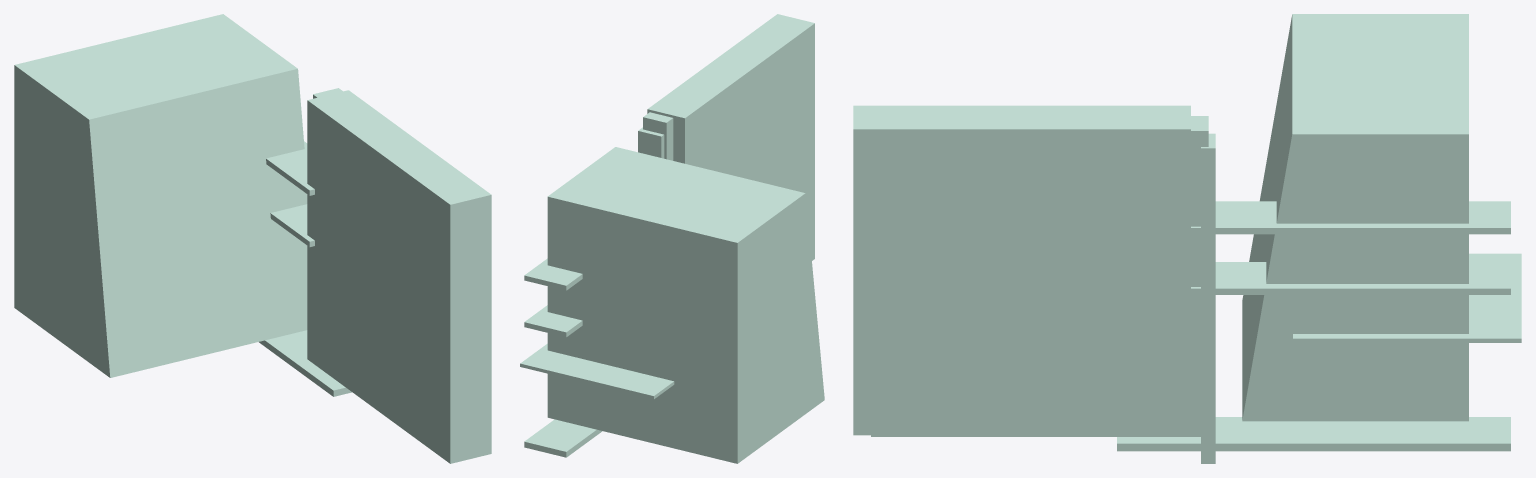
3 renders of one model, left to right at view 1: azimuth 30°, elevation 25°; view 2: azimuth 150°, elevation 25°; view 3: azimuth 270°, elevation 25°, orthographic. The views are drawn at different scales.
Visible parts, largest first — view 1: Renderer Node; view 2: Renderer Node; view 3: Renderer Node.
Boxes of the visible parts, box(x1,y1,x2,y2) form: Renderer Node: box(14, 14, 491, 463); Renderer Node: box(520, 14, 824, 463); Renderer Node: box(853, 14, 1521, 463).
Bounding box in the file's own units: 0.6563 × 0.8203 × 1.48.
